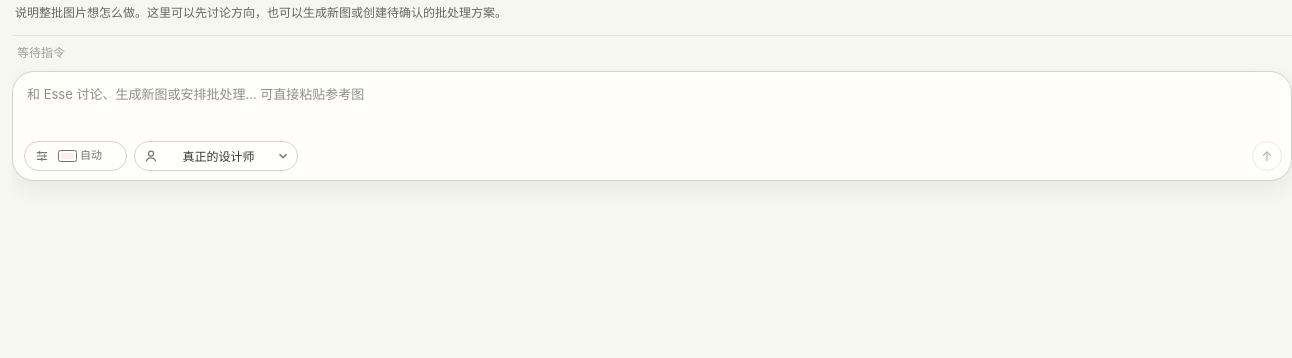
Test: ProjectPlanPanel persona behavior › opens an accessible persona list with short descriptions
Click the dropdown named "选择 Esse 人格". click: (216, 156)
box: [134,141,298,171]
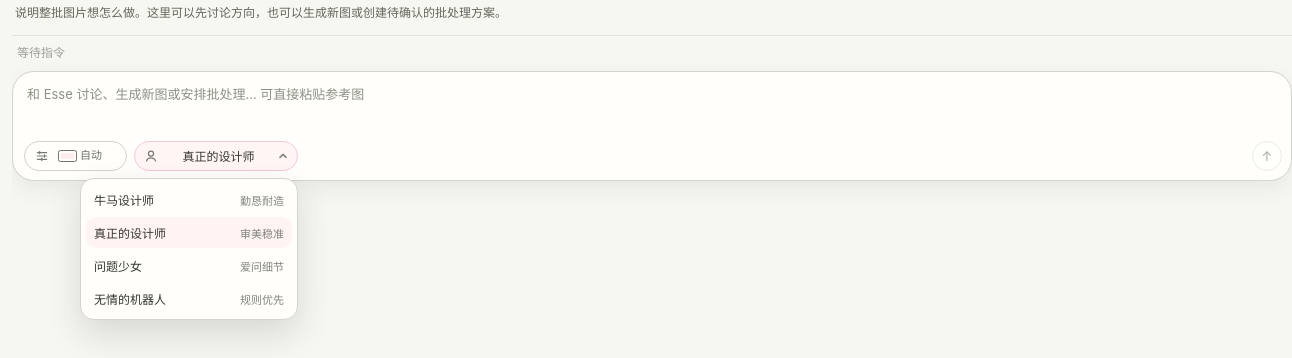
Now the option "牛马设计师 勤恳耐造" is shown, box [94,193,284,209]
Now the option "真正的设计师 审美稳准" is shown, box [86,217,292,248]
Now the option "问题少女 爱问细节" is shown, box [94,259,284,275]
